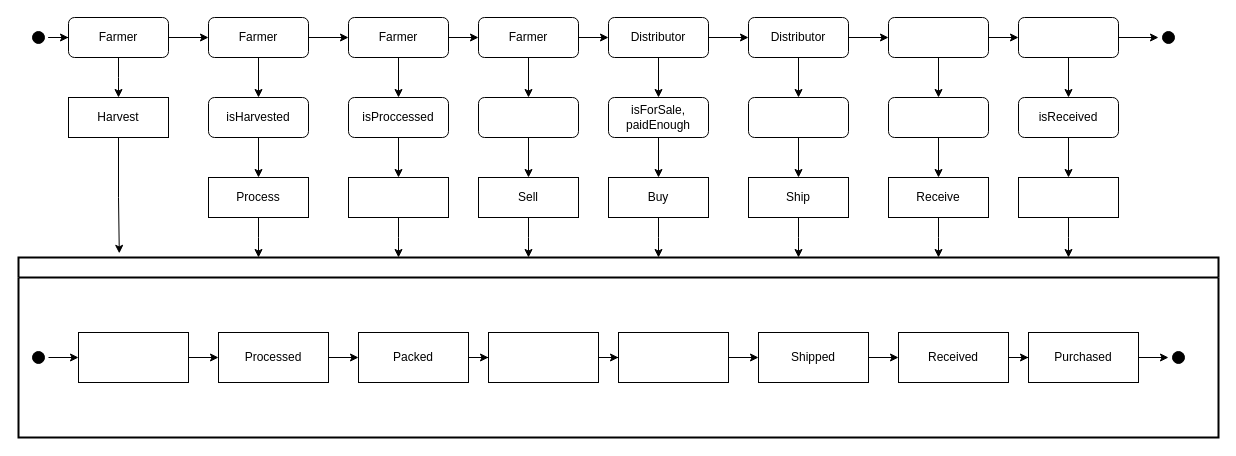
This 1236x456 diagram has some shape labels left out. Here are the shapes that lost their labels. From the top down, the box of each, then its label:
(888, 16, 988, 58): Retailer
(1018, 16, 1118, 58): Consumer
(478, 96, 578, 138): isPacked
(748, 96, 848, 138): isSold
(888, 96, 988, 138): isShipped
(348, 176, 448, 218): Pack
(1018, 176, 1118, 218): Purchase
(78, 332, 188, 382): Harvested
(488, 332, 598, 382): ForSale
(17, 256, 1219, 438): Item State
(618, 332, 728, 382): Sold
